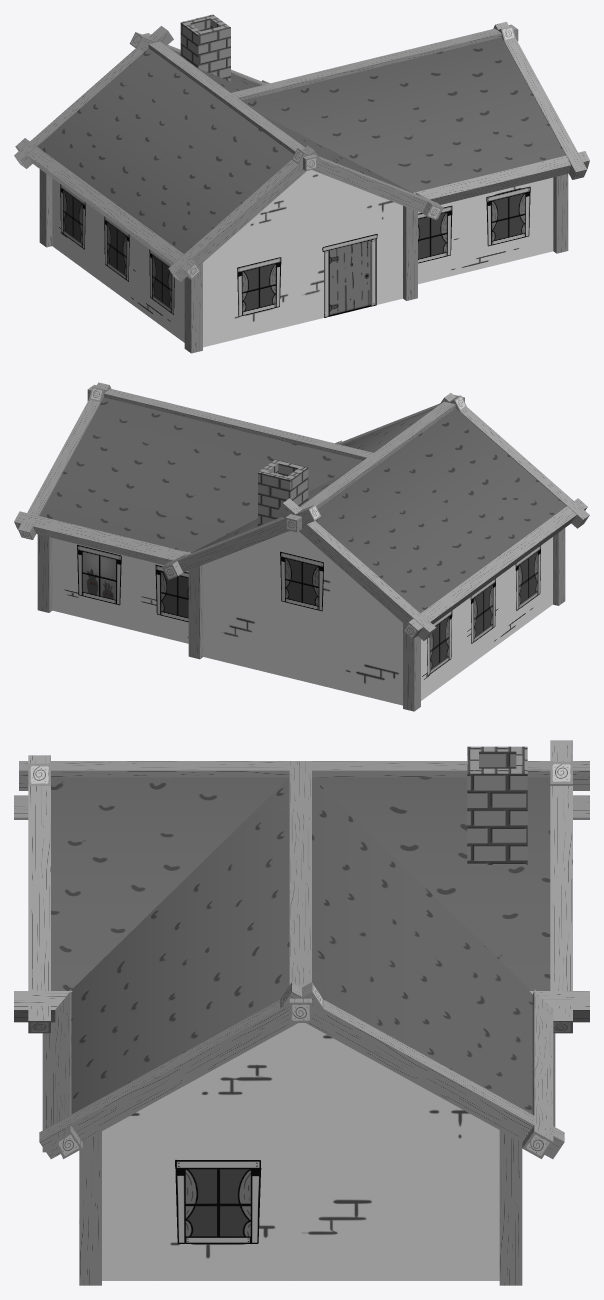
The model's file is Asset_Building_02.fbx.
3 renders of one model, top to bottom at view 1: azimuth 30°, elevation 25°; view 2: azimuth 150°, elevation 25°; view 3: azimuth 270°, elevation 25°, orthographic. The views are drawn at different scales.
Visible parts, largest first — view 1: Building_One_Seperate1_Complete3; view 2: Building_One_Seperate1_Complete3; view 3: Building_One_Seperate1_Complete3.
Part boxes in pixels (x1,y1,x2,y2): Building_One_Seperate1_Complete3: [14, 14, 589, 353]; Building_One_Seperate1_Complete3: [14, 382, 589, 711]; Building_One_Seperate1_Complete3: [14, 740, 589, 1285].
Bounding box in the file's own units: 911 × 635 × 410.
